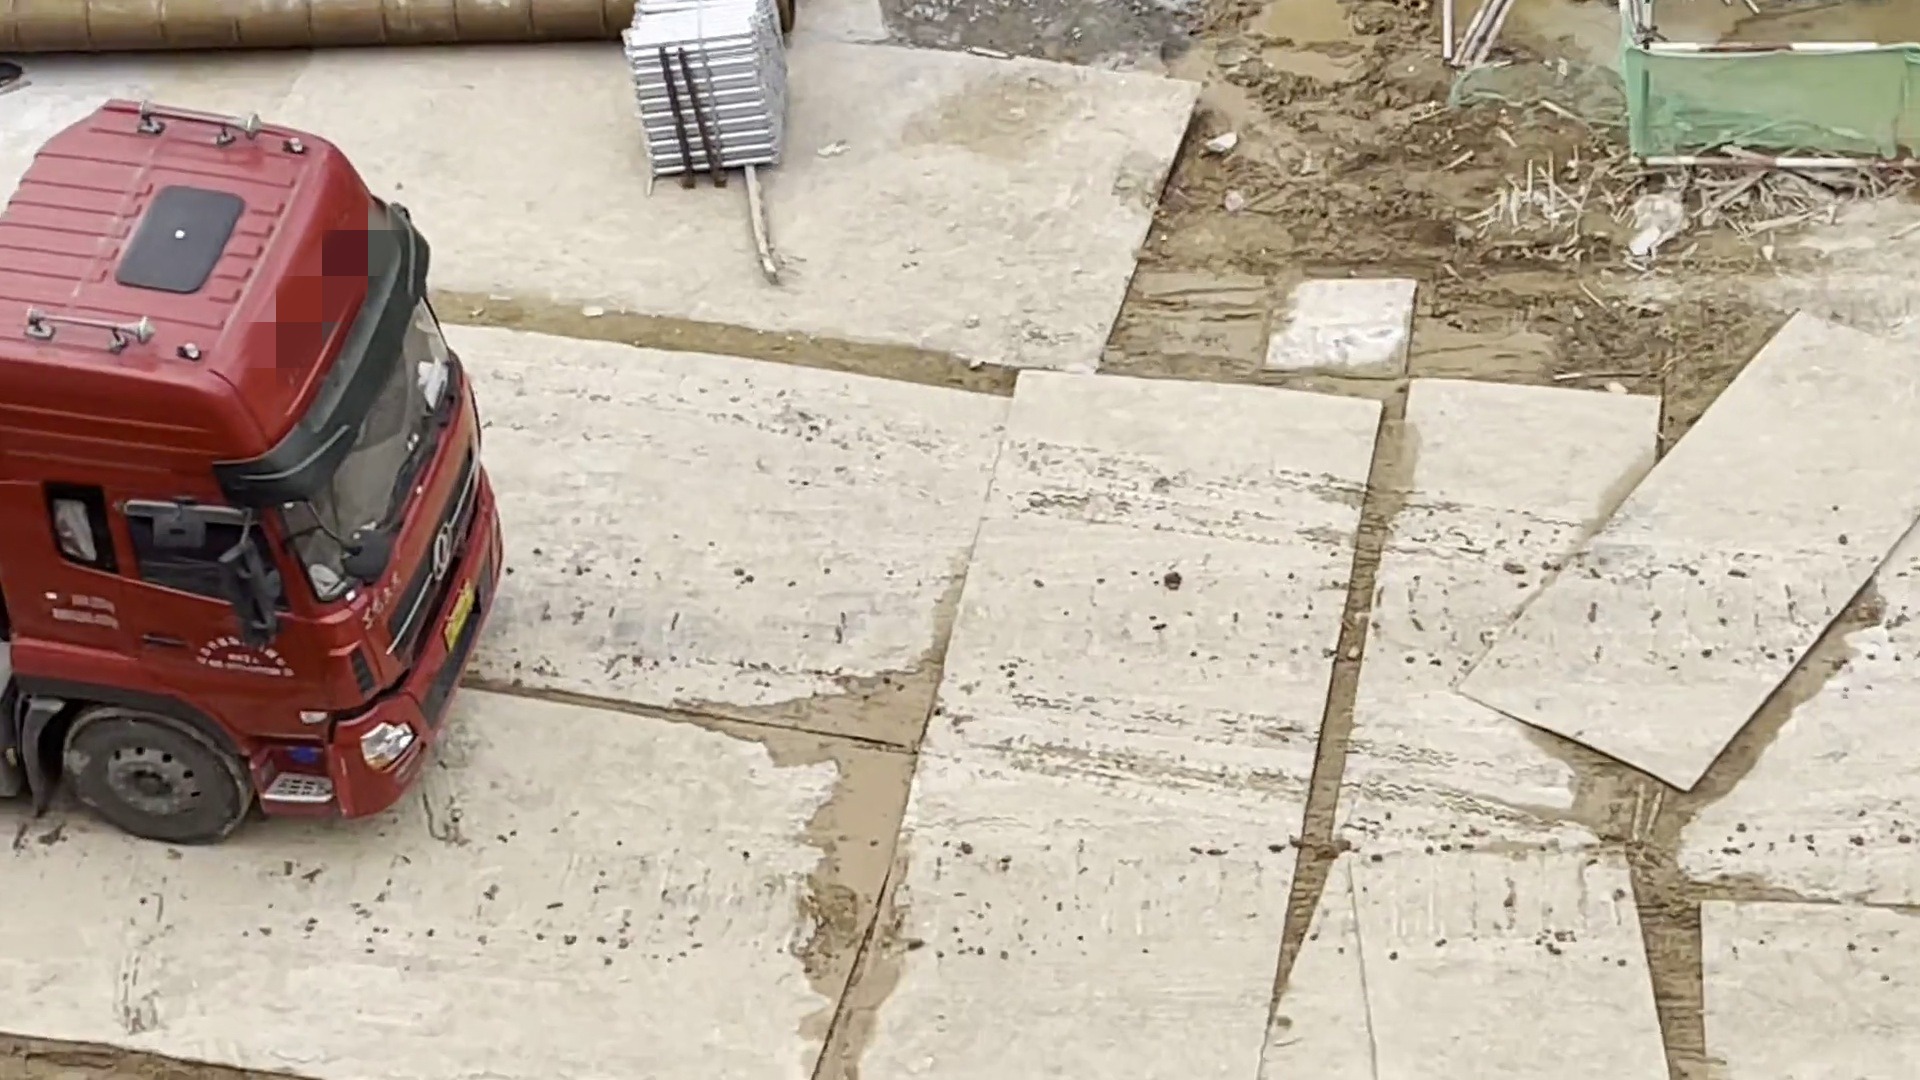scaffold: (603, 3, 840, 200)
